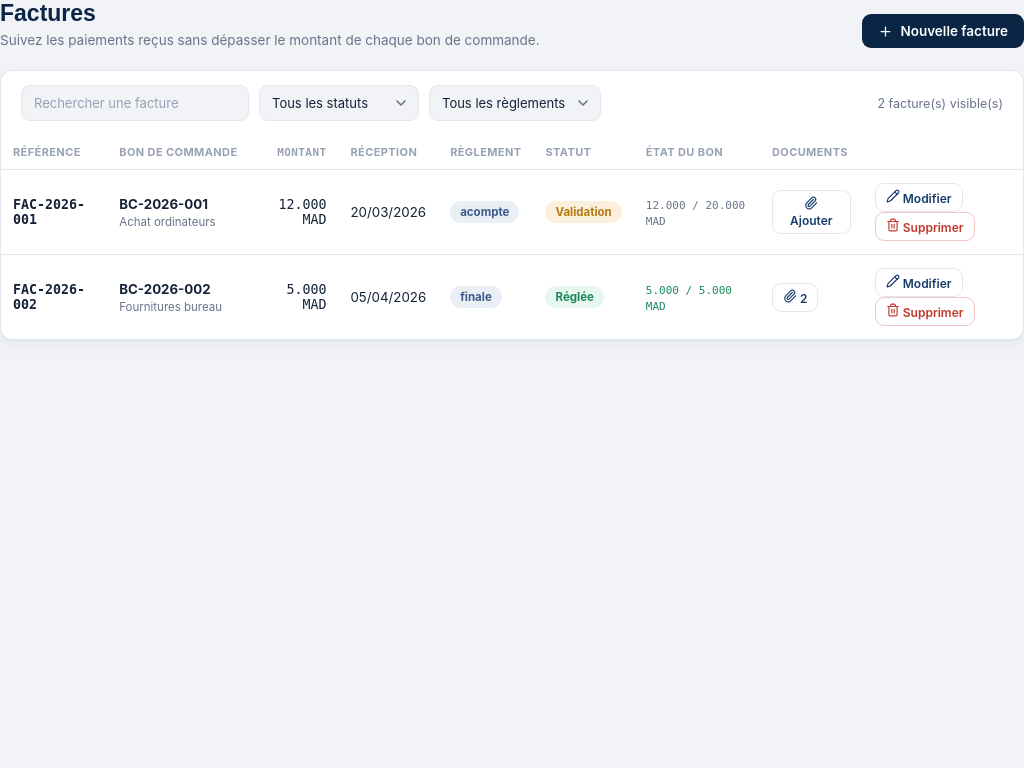
Test: Factures › affiche l'erreur de validation du montant
Expected: the text "FAC-2026-001" is shown, [13, 197, 85, 227]
Click the button "Nouvelle facture" at (943, 31), box [862, 14, 1023, 48]
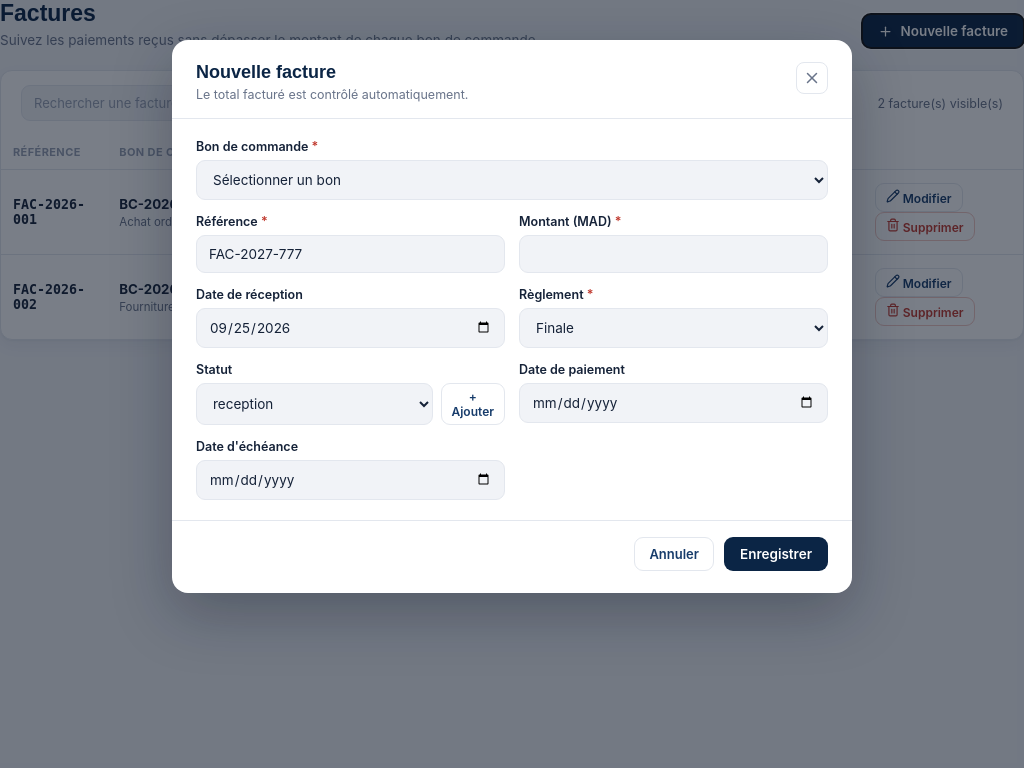
Select "BC-2026-001 — Achat ordinateurs" in the 1st dropdown at (512, 180), box [196, 160, 828, 200]
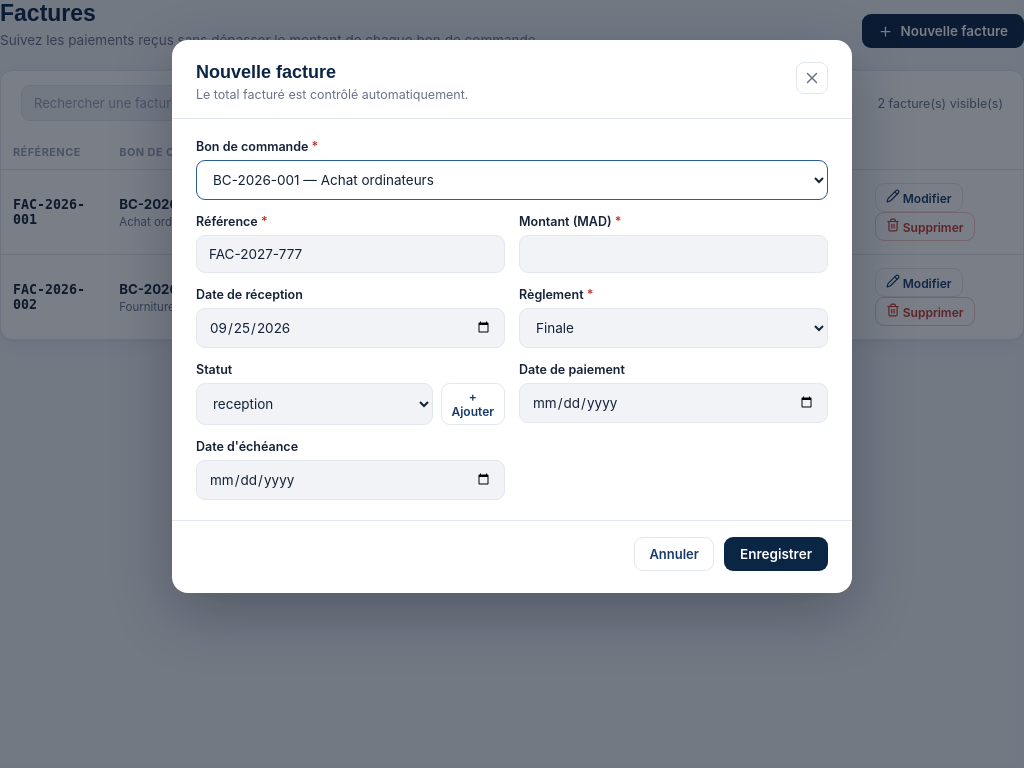
Type "999999" into the number field at (674, 254), box [519, 235, 828, 273]
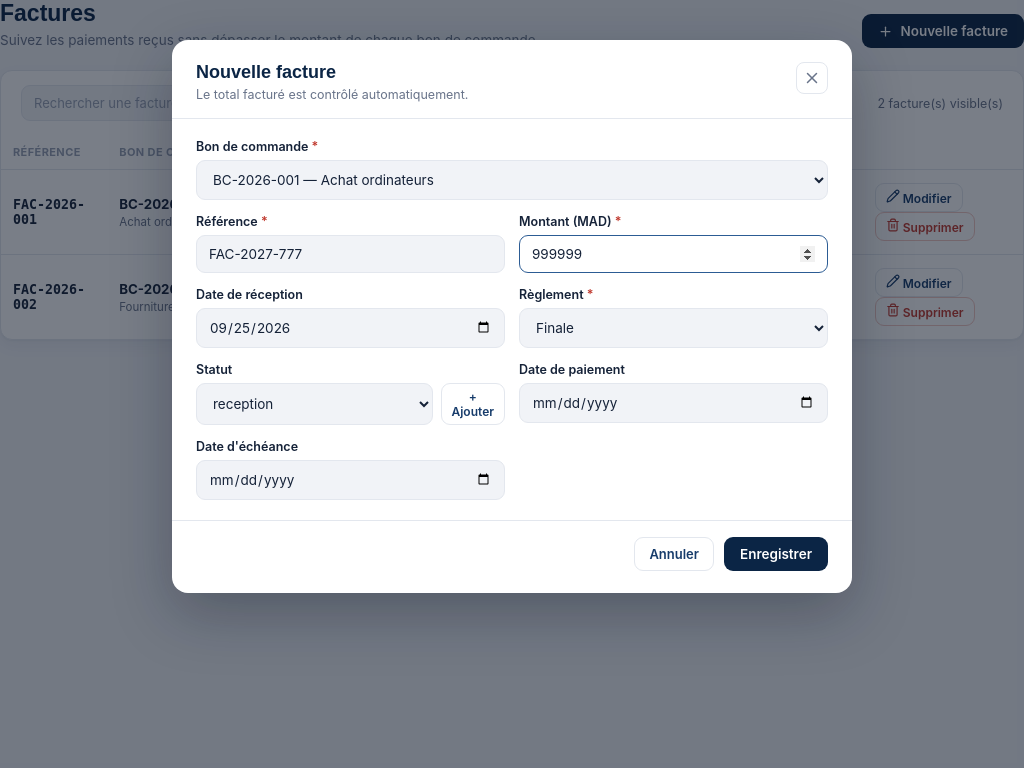
Click the button "Enregistrer" at (776, 554), box [724, 537, 828, 571]
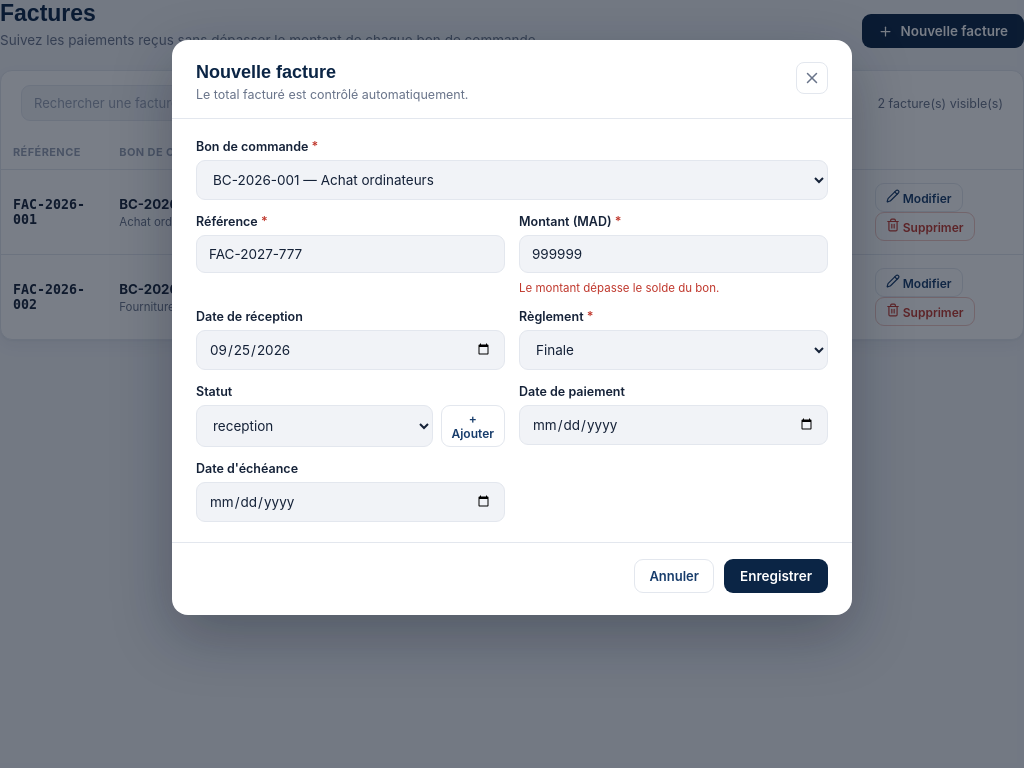
Result: the text "Le montant dépasse le solde du bon." is shown at [519, 281, 719, 295]
